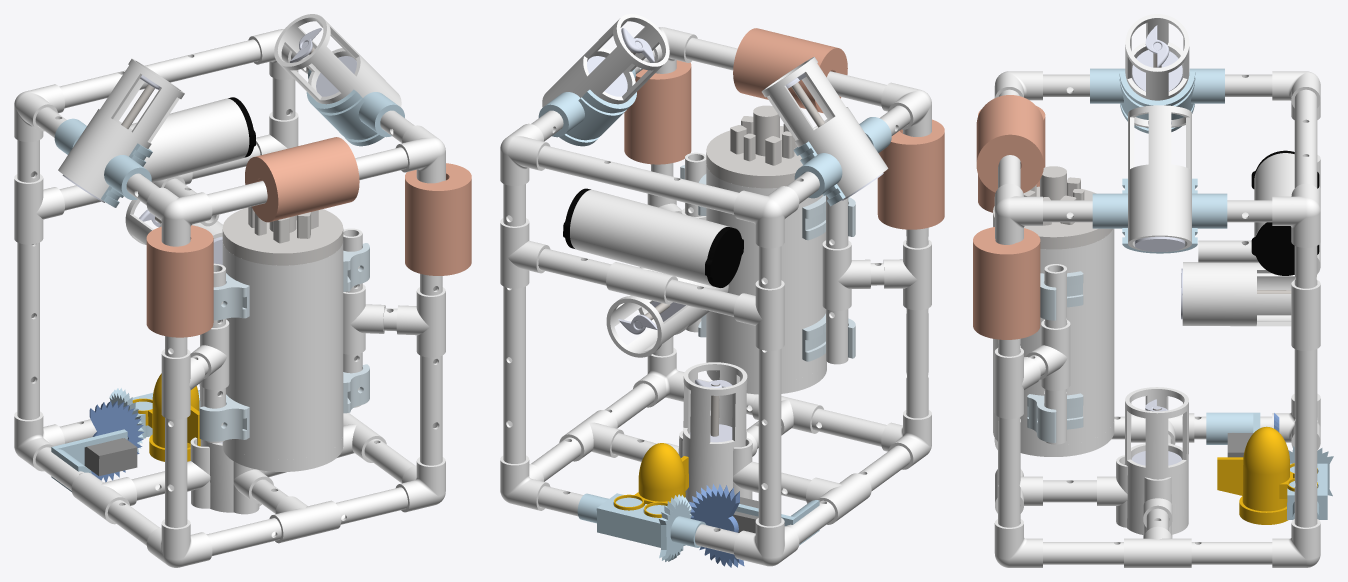
The model's file is rov.glb.
The picture shows the model from 3 angles, left to right: view 1: azimuth 30°, elevation 25°; view 2: azimuth 150°, elevation 25°; view 3: azimuth 270°, elevation 25°; orthographic projection.
Parts seen in each view (by area): view 1: Part 1 (×9), 0.5x7.0in pipe (×11), T-Connector (×11), 2.0x7.0in pipe (×4), tri-corner (×7), Part 6, Part 9, Mounting Bracket (×4), 0.5x3.5in pipe (×7), Part 3 (×2), Body; view 2: Part 1 (×9), 0.5x7.0in pipe (×10), 2.0x7.0in pipe (×4), T-Connector (×9), tri-corner (×8), Part 6, 0.5x3.5in pipe (×9), Part 9, Part 3 (×2), Body, Mounting Bracket (×2); view 3: Part 1 (×12), 2.0x7.0in pipe (×4), 0.5x7.0in pipe (×7), T-Connector (×8), tri-corner (×7), 0.5x3.5in pipe (×6), Body, Part 9, Mounting Bracket (×2), Part 6, Part 3 (×2), Head.
Boxes of the visible parts, x1,y1,x2,y2 form: Part 1 (×9): (51,69,471,491); 0.5x7.0in pipe (×11): (17,39,442,555); T-Connector (×11): (14,112,445,543); 2.0x7.0in pipe (×4): (58,14,401,512); tri-corner (×7): (14,29,445,567); Part 6: (129,98,249,182); Part 9: (222,206,343,265); Mounting Bracket (×4): (199,243,369,441); 0.5x3.5in pipe (×7): (59,110,414,513); Part 3 (×2): (89,401,343,482); Body: (152,373,200,447); Part 1 (×9): (538,28,944,561); 0.5x7.0in pipe (×10): (503,37,928,543); 2.0x7.0in pipe (×4): (542,14,888,503); T-Connector (×9): (500,218,931,524); tri-corner (×8): (500,27,931,566); Part 6: (570,189,730,286); 0.5x3.5in pipe (×9): (531,105,910,554); Part 9: (706,105,802,188); Part 3 (×2): (689,359,826,567); Body: (638,443,688,501); Mounting Bracket (×2): (802,195,855,361); Part 1 (×12): (973,50,1333,519); 2.0x7.0in pipe (×4): (1124,14,1317,535); 0.5x7.0in pipe (×7): (998,89,1317,564); T-Connector (×8): (994,280,1320,567); tri-corner (×7): (994,71,1320,567); 0.5x3.5in pipe (×6): (1043,74,1272,502); Body: (1217,426,1290,511); Part 9: (993,166,1112,249); Mounting Bracket (×2): (1027,271,1083,442); Part 6: (1254,153,1294,236); Part 3 (×2): (993,25,1169,456); Head: (1239,496,1288,524).
Size of the model in its own units: 0.3659 by 0.4914 by 0.34.
